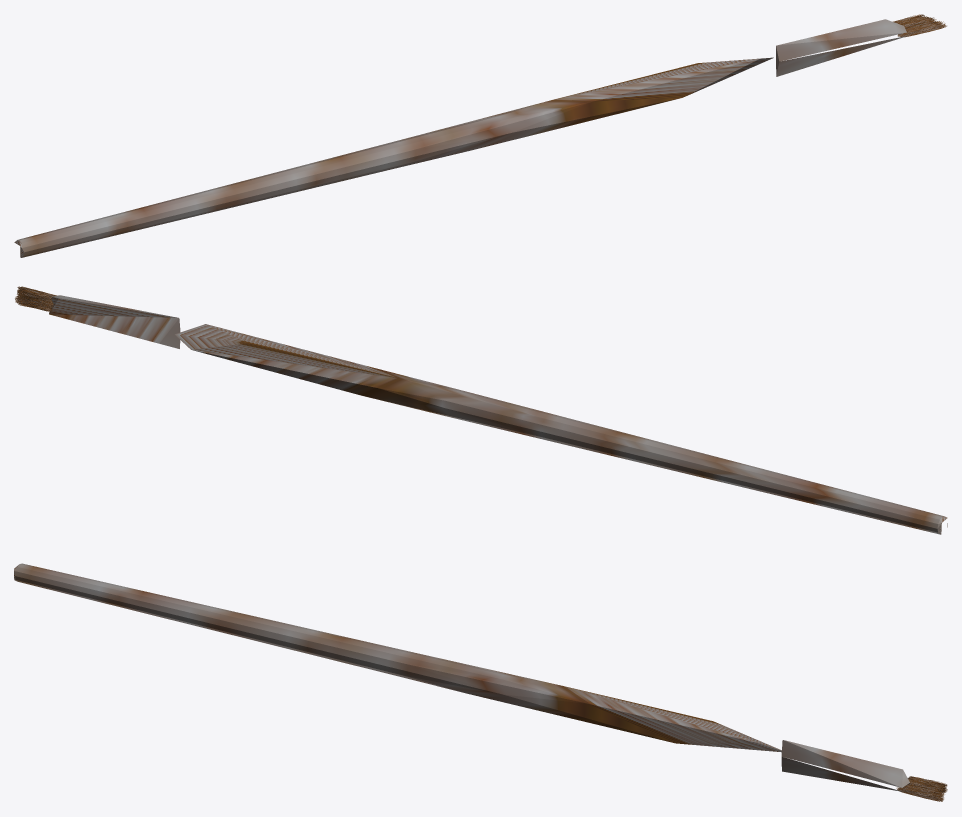
Rendered from paint_supplies_brush_a11.glb.
3 views of the same model, one above another, from view 1: azimuth 30°, elevation 25°; view 2: azimuth 150°, elevation 25°; view 3: azimuth 330°, elevation 25° (orthographic).
Visible parts, largest first — view 1: geometry_0; view 2: geometry_0; view 3: geometry_0.
Part boxes in pixels (x1,y1,x2,y2): geometry_0: (14, 14, 946, 257); geometry_0: (15, 286, 947, 534); geometry_0: (14, 563, 947, 801).
Bounding box in the file's own units: 0.42 × 0.0136 × 0.0136.
1 material, 1 textured.
